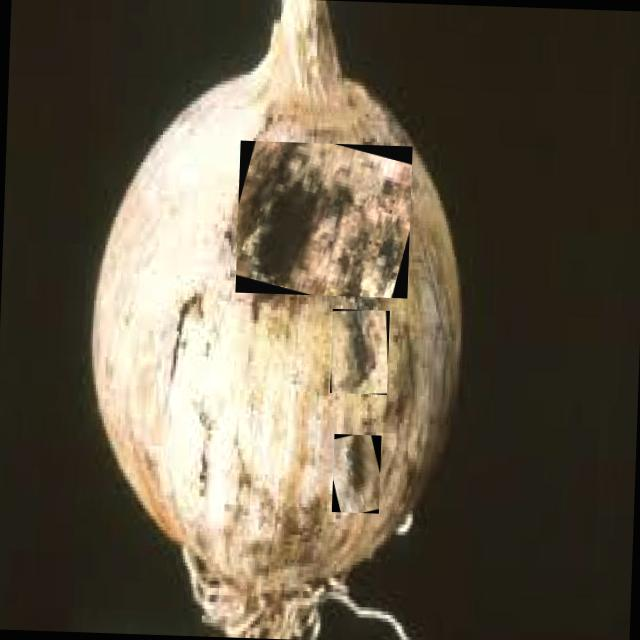mould: (235, 140, 412, 298), (330, 308, 390, 394), (331, 434, 381, 514)
